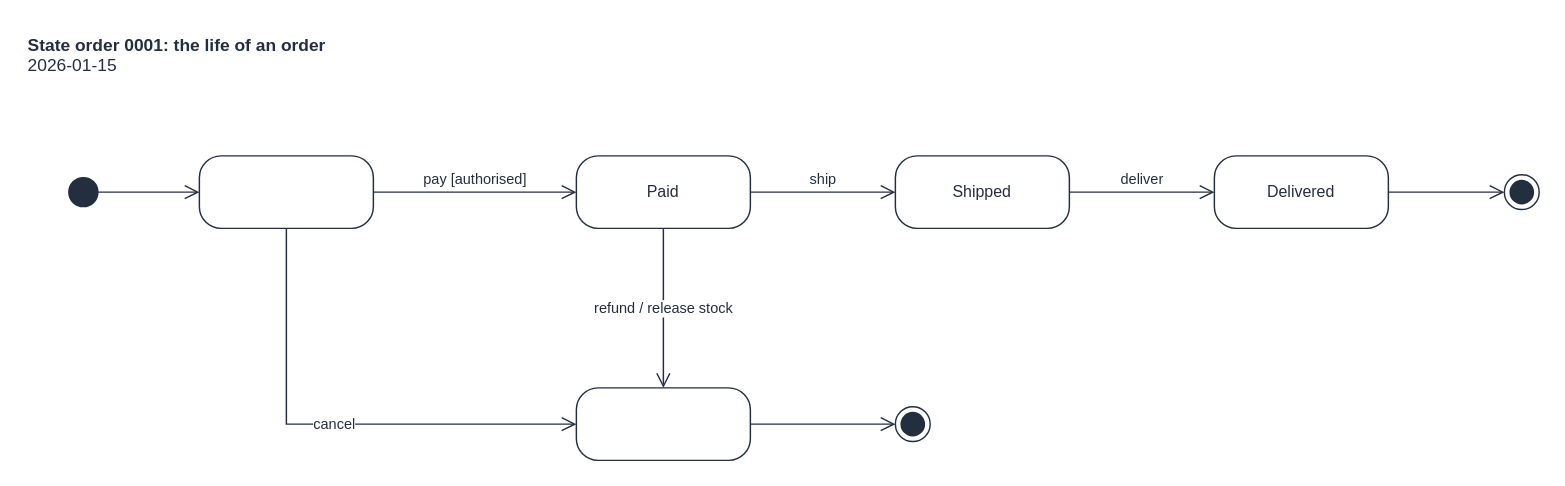
Image size: 1565x486. Some labels were removed from this diagram. The centre of each missing label's shape, as x and y in pixels:
"Cancelled" goes at point 662,423.
"Pending" goes at point 285,191.
